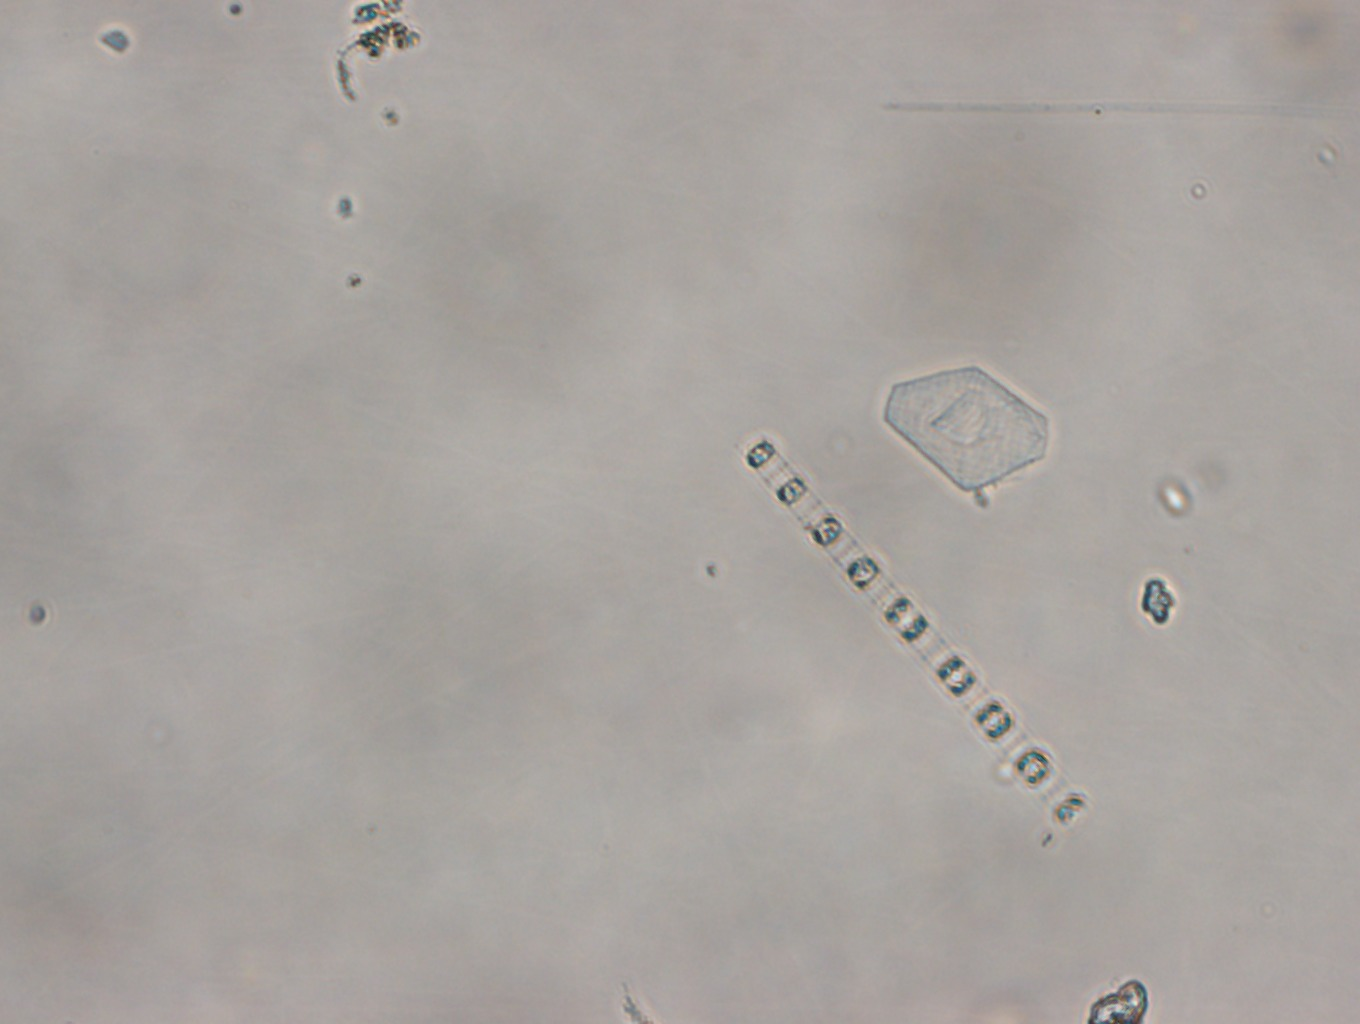skeletonema: (734, 427, 1087, 825)
